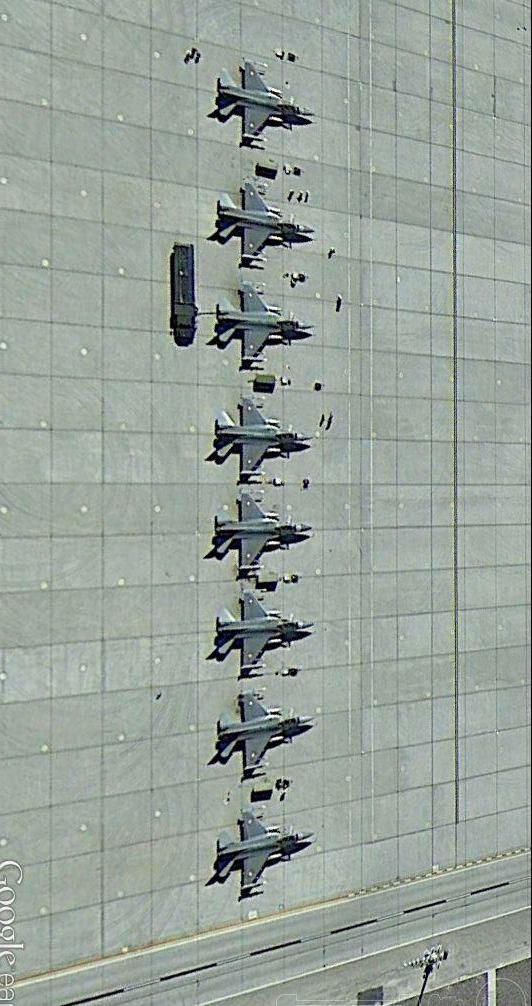F-16: (213, 688, 312, 776), (213, 61, 317, 143), (212, 591, 312, 675), (213, 490, 311, 575), (216, 286, 317, 367), (213, 812, 312, 892), (216, 404, 315, 482), (213, 189, 312, 262)
